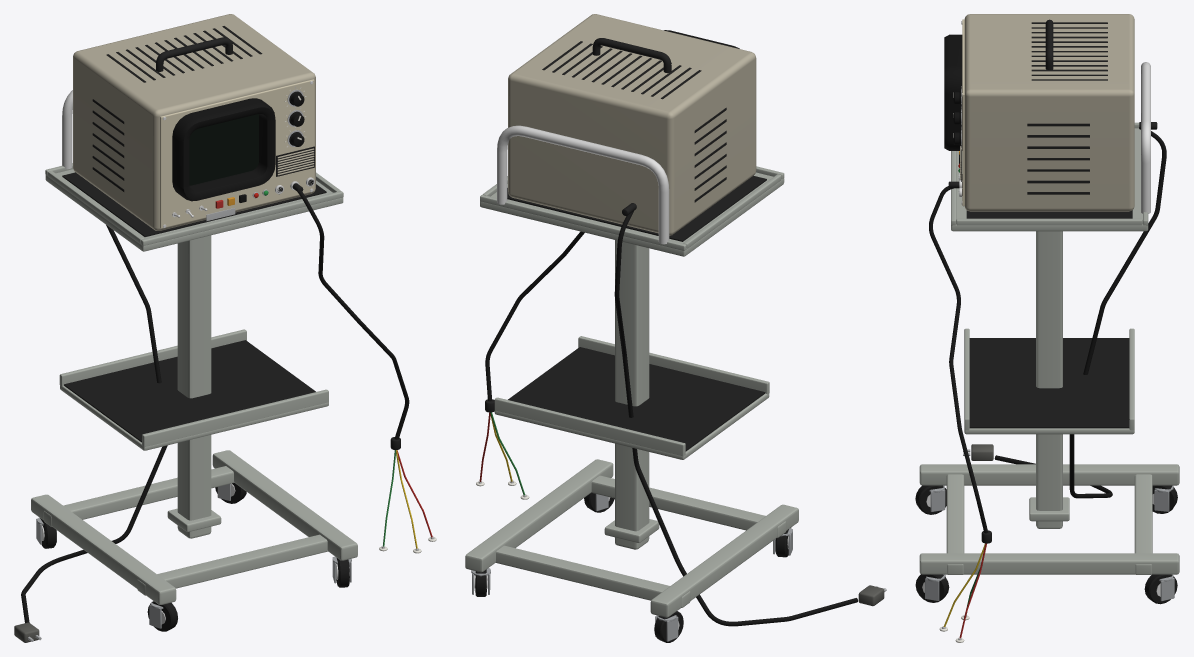
Rendered from hosp_moniteur.glb.
3 views of the same model, side by side, from view 1: azimuth 30°, elevation 25°; view 2: azimuth 150°, elevation 25°; view 3: azimuth 270°, elevation 25° (orthographic). The views are drawn at different scales.
Visible parts, largest first — view 1: chariot, boitier, cables, ecran, commandes; view 2: chariot, boitier, cables; view 3: chariot, boitier, cables, commandes.
Part boxes in pixels (x1,y1,x2,y2): chariot: (31, 90, 357, 631); boitier: (73, 14, 315, 230); cables: (14, 183, 436, 642); ecran: (189, 114, 258, 185); commandes: (172, 87, 314, 221); chariot: (465, 125, 798, 642); boitier: (508, 14, 756, 235); cables: (476, 203, 886, 626); chariot: (915, 62, 1179, 604); boitier: (944, 14, 1134, 211); cables: (929, 122, 1166, 642); commandes: (953, 86, 962, 197).
Size of the model in its own units: 1.05 by 1.29 by 0.5894.
